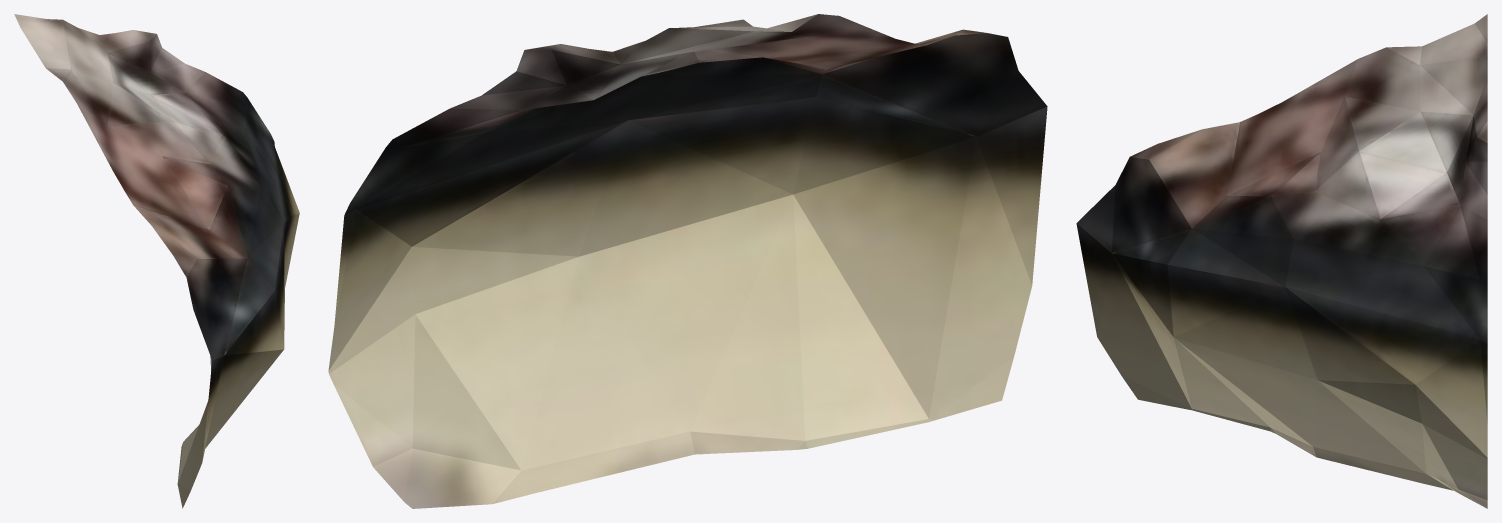
3 renders of one model, left to right at view 1: azimuth 30°, elevation 25°; view 2: azimuth 150°, elevation 25°; view 3: azimuth 270°, elevation 25°, orthographic. The views are drawn at different scales.
Size of the model in its own units: 0.4872 by 0.6394 by 0.6176.
Materials: 1 (1 with a texture image).
